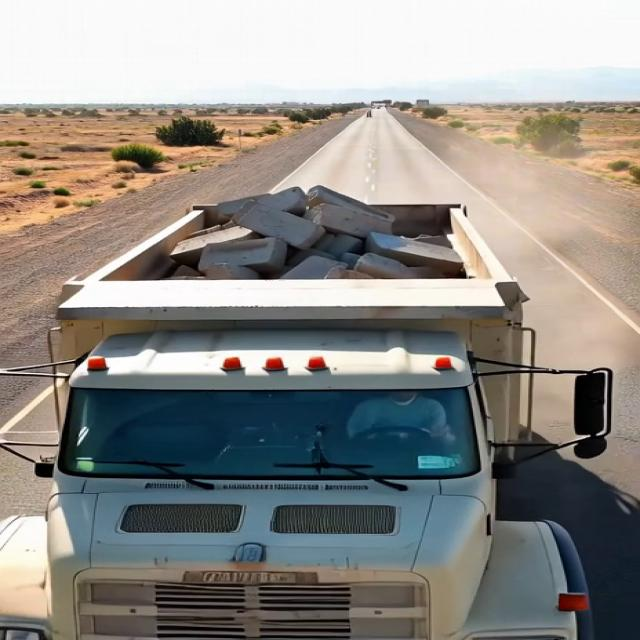Box: (76, 187, 542, 322)
Truck: (0, 159, 608, 640)
